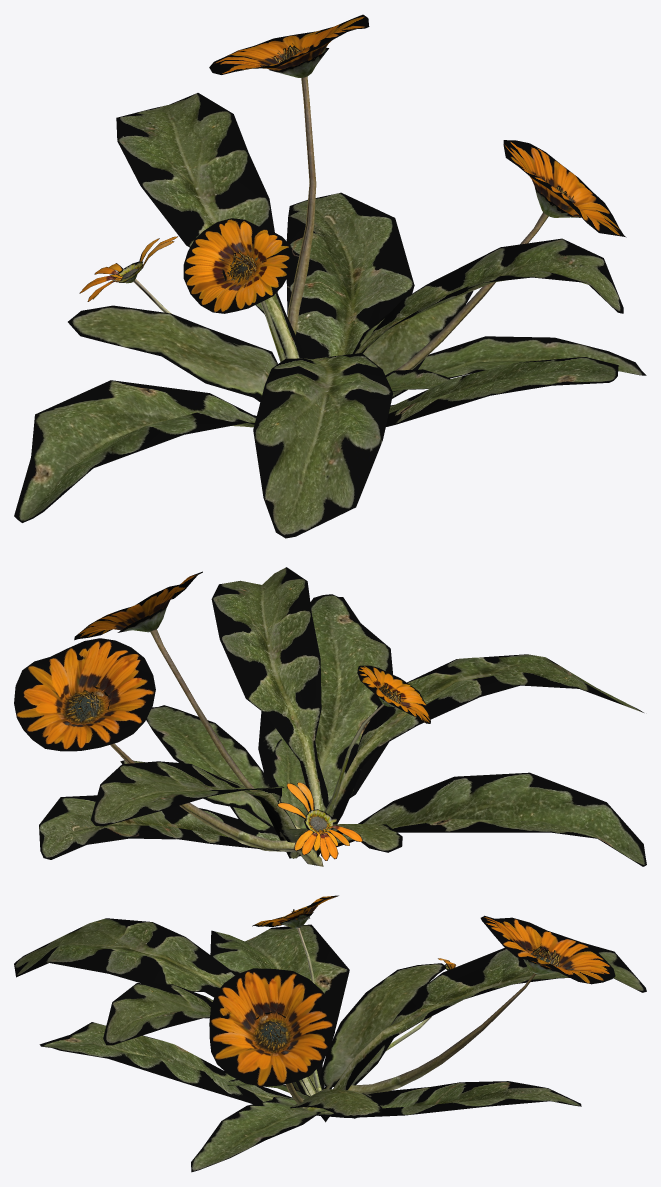
Rendered from flower_gazania_6.gltf.
3 views of the same model, one above another, from view 1: azimuth 30°, elevation 25°; view 2: azimuth 150°, elevation 25°; view 3: azimuth 270°, elevation 25° (orthographic). The views are drawn at different scales.
Visible parts, largest first — view 1: flower_gazania_g_LOD0; view 2: flower_gazania_g_LOD0; view 3: flower_gazania_g_LOD0.
Boxes of the visible parts, left/top/right/bottom form: flower_gazania_g_LOD0: left=14, top=14, right=646, bottom=538; flower_gazania_g_LOD0: left=14, top=567, right=646, bottom=866; flower_gazania_g_LOD0: left=14, top=895, right=646, bottom=1172.
Bounding box in the file's own units: 0.2694 × 0.1244 × 0.2884.
Materials: 1 (1 with a texture image).
